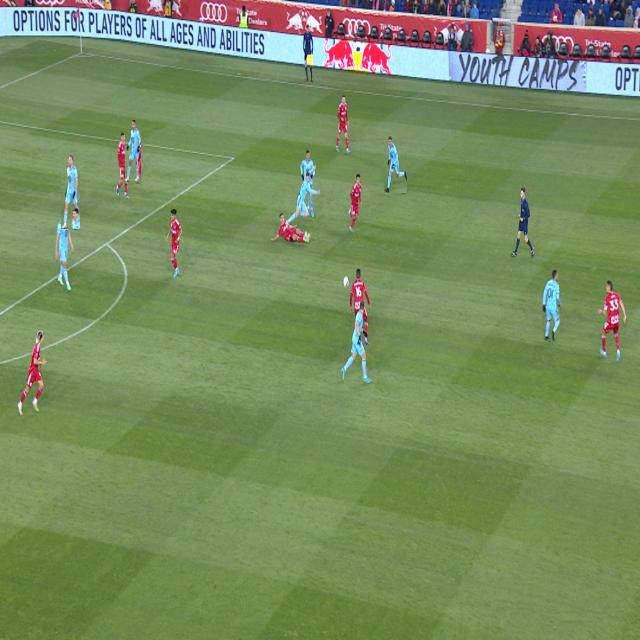football: (342, 275, 349, 288)
player: (341, 301, 372, 383), (18, 330, 47, 415), (598, 281, 626, 361), (286, 166, 320, 223), (55, 209, 74, 291), (61, 156, 80, 229), (385, 136, 407, 193), (543, 270, 560, 341), (270, 213, 310, 243), (300, 151, 315, 218), (167, 210, 182, 277), (125, 120, 141, 182), (350, 269, 371, 316), (116, 132, 130, 199), (336, 96, 351, 154), (348, 174, 362, 232), (363, 307, 369, 345)
referee: (511, 188, 534, 257)
